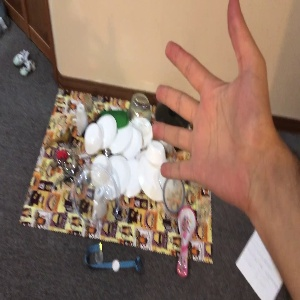hand: (153, 1, 266, 207)
